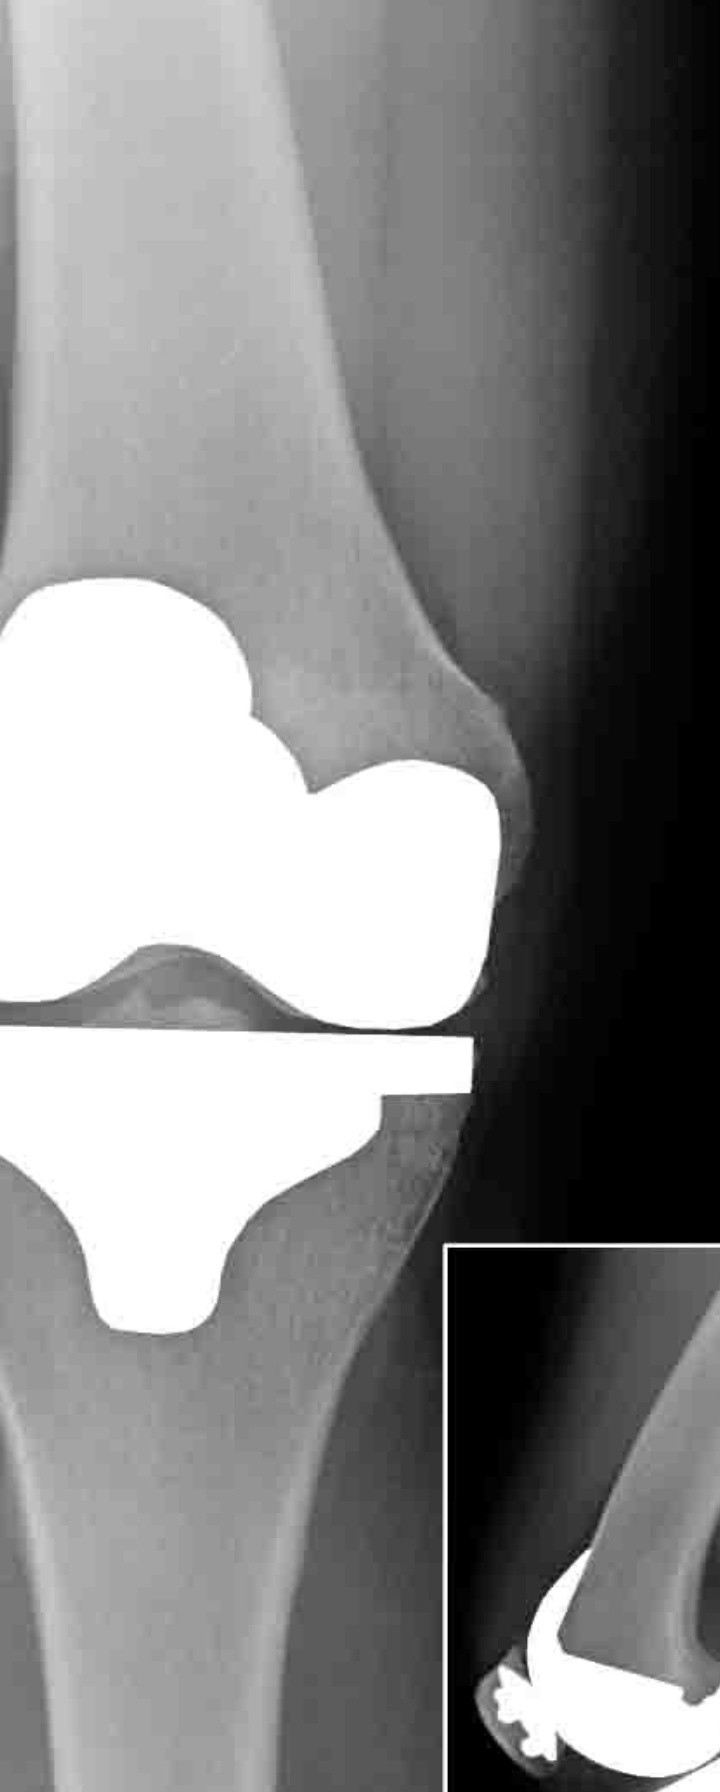Knee-TriathlonTritanium-Stryker: (1, 566, 514, 1366), (488, 1549, 720, 1783)
